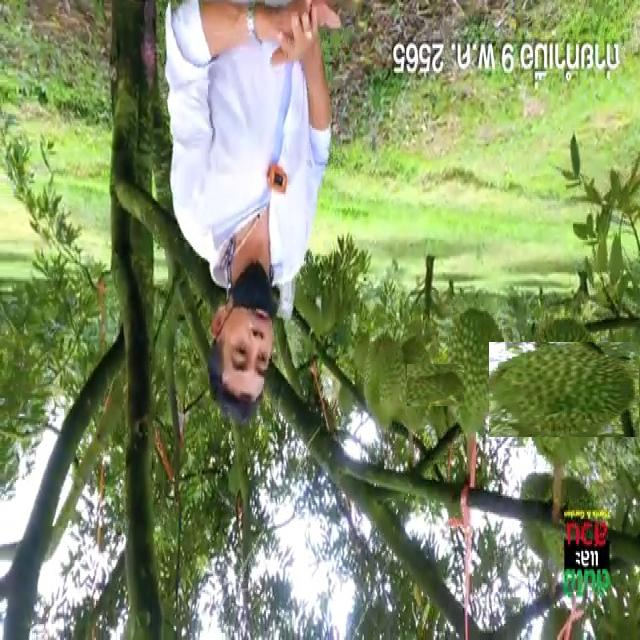durian: (503, 328, 626, 451), (442, 302, 509, 440), (380, 349, 450, 420), (361, 332, 407, 429)
